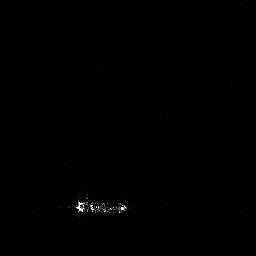ship: (72, 194, 130, 217)
